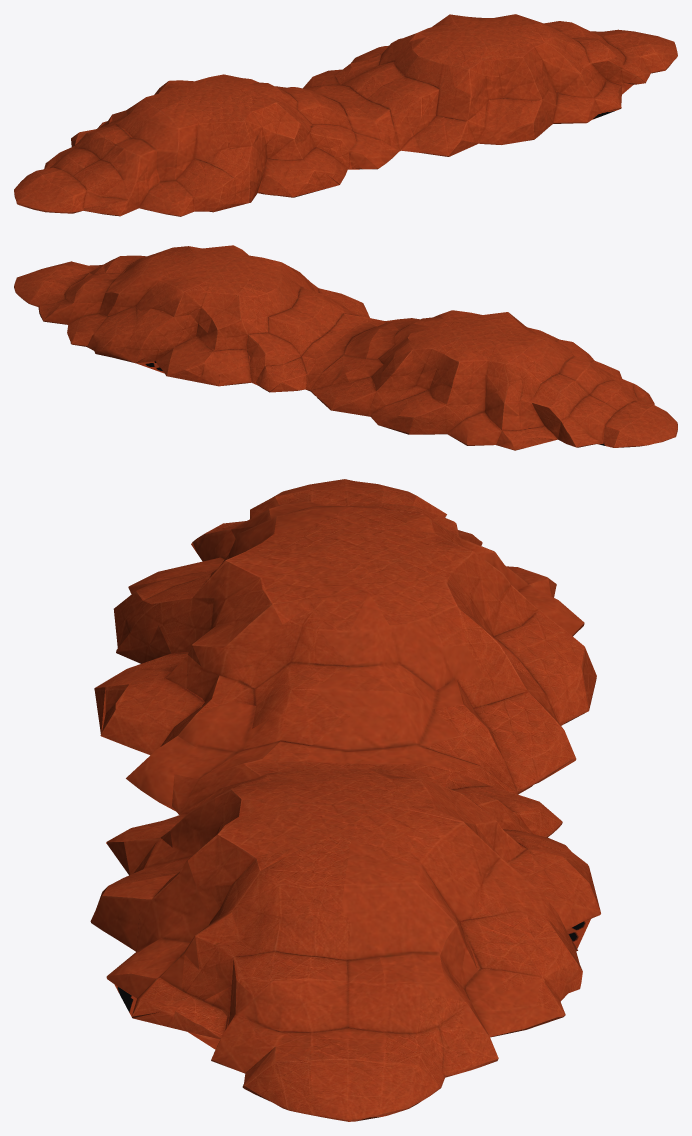
File: desert_ridge_2.glb
3 renders of one model, top to bottom at view 1: azimuth 30°, elevation 25°; view 2: azimuth 150°, elevation 25°; view 3: azimuth 270°, elevation 25°, orthographic. The views are drawn at different scales.
Parts seen in each view (by area): view 1: output_unwrapped; view 2: output_unwrapped; view 3: output_unwrapped.
Part boxes in pixels (bbox=[...]): output_unwrapped: bbox=[14, 14, 677, 216]; output_unwrapped: bbox=[14, 245, 677, 450]; output_unwrapped: bbox=[90, 479, 600, 1121].
Bounding box in the file's own units: 1.9 × 0.1667 × 0.6398.
1 material, 1 textured.
